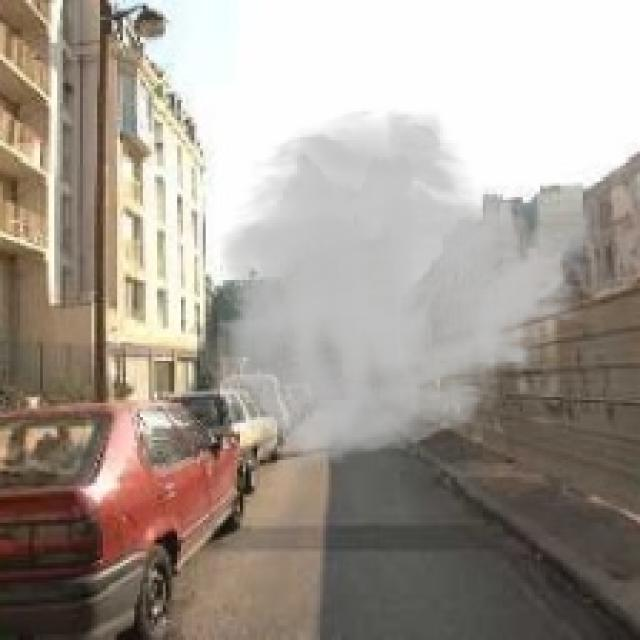smoke: (200, 106, 594, 468)
